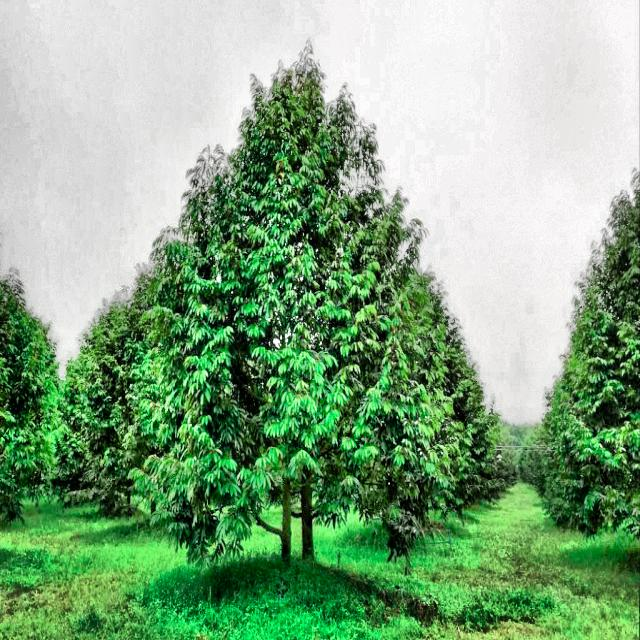arvore: (261, 289, 325, 586)
